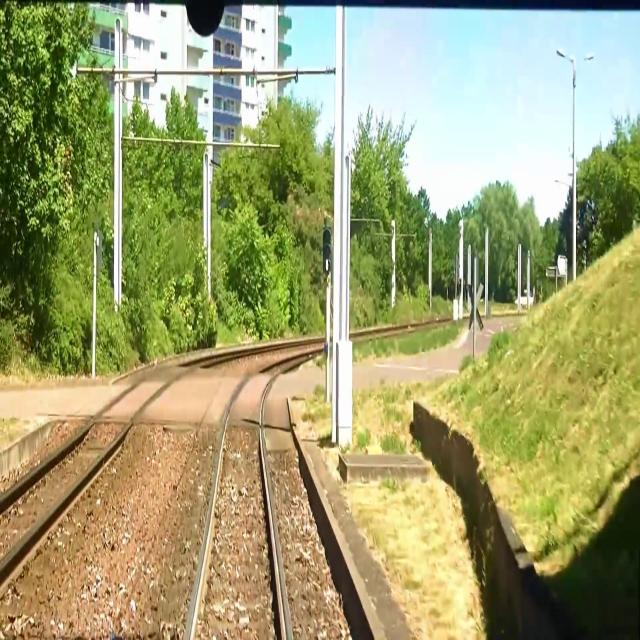rail-track: (0, 365, 187, 562), (192, 359, 297, 639)
